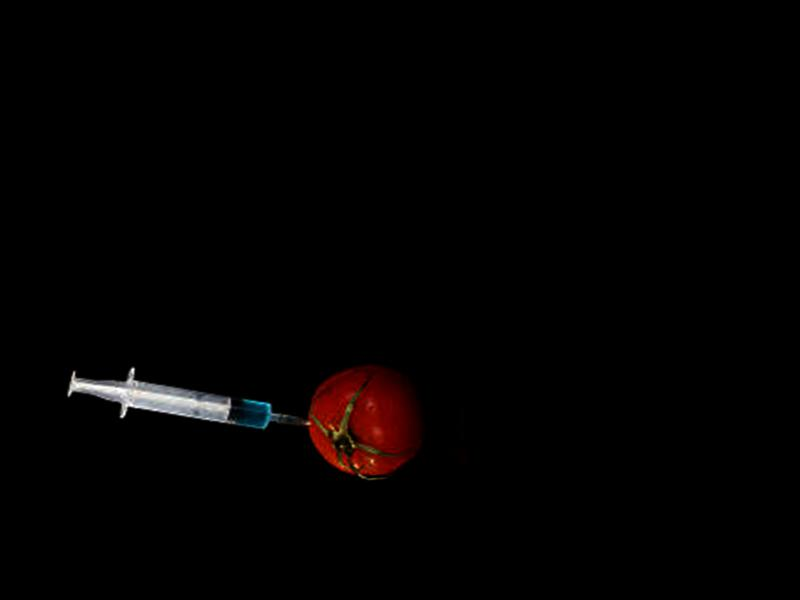Tomato: (302, 360, 425, 483)
